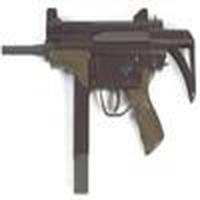gun: (1, 7, 200, 154)
